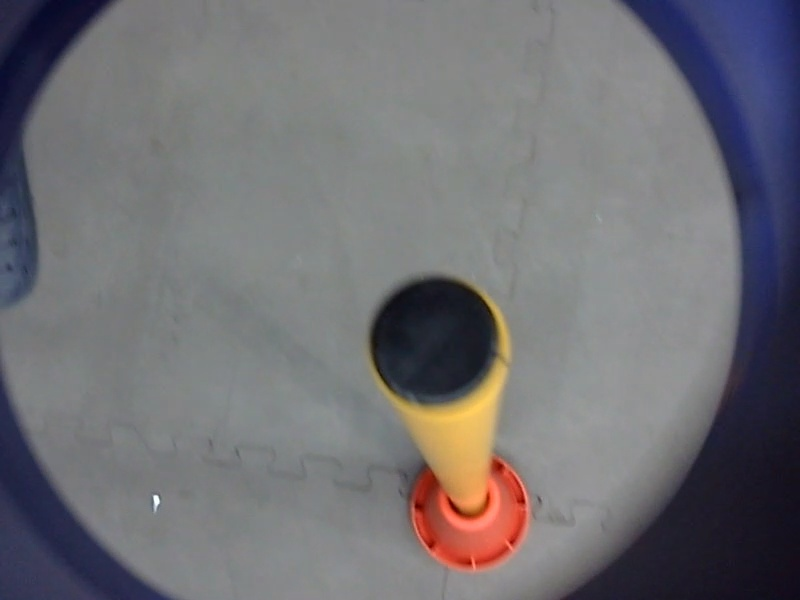tip: (355, 266, 519, 425)
